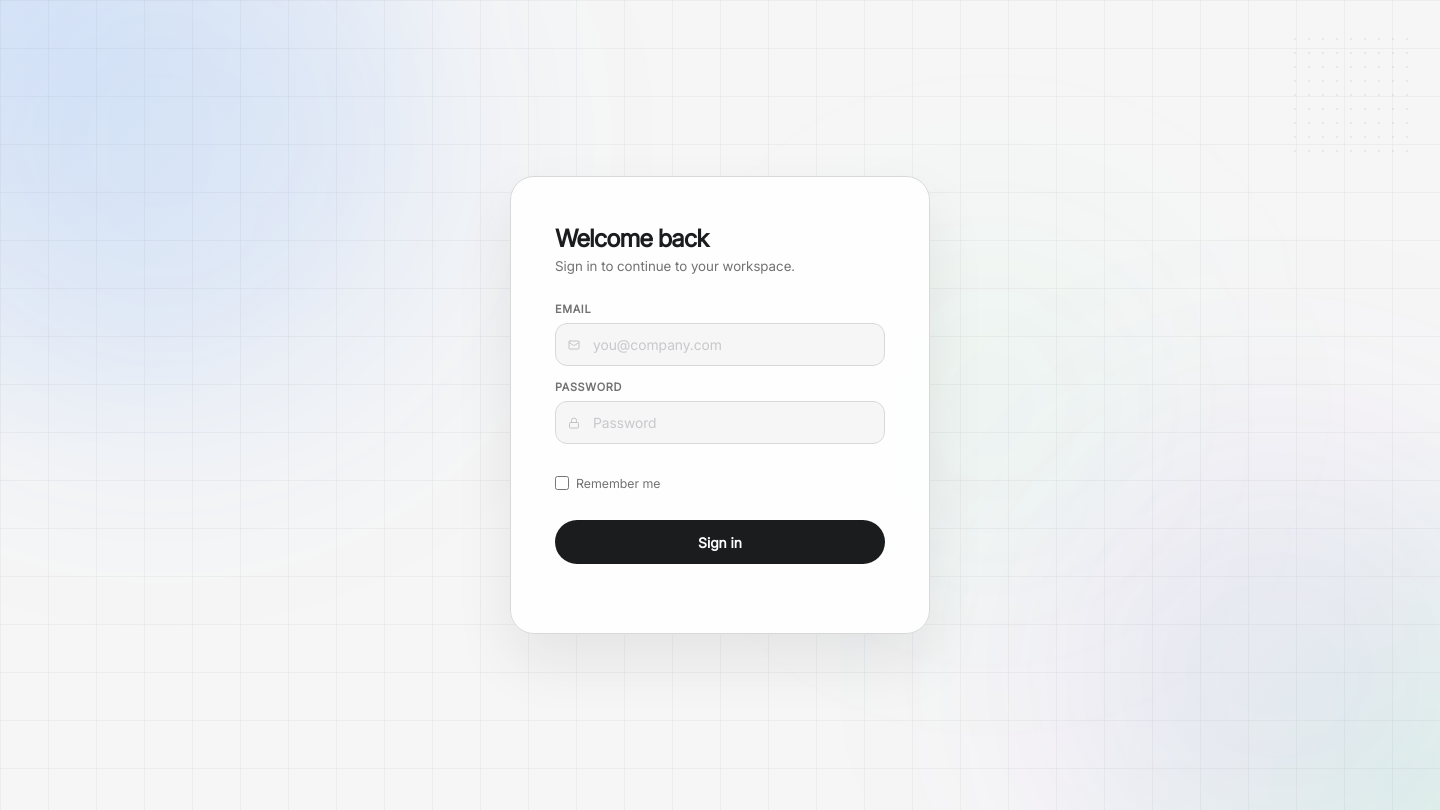
LoginView › shows an error message when login fails
Type "user@test.no" into the field with id "email". click: (720, 345)
box: [555,323,885,366]
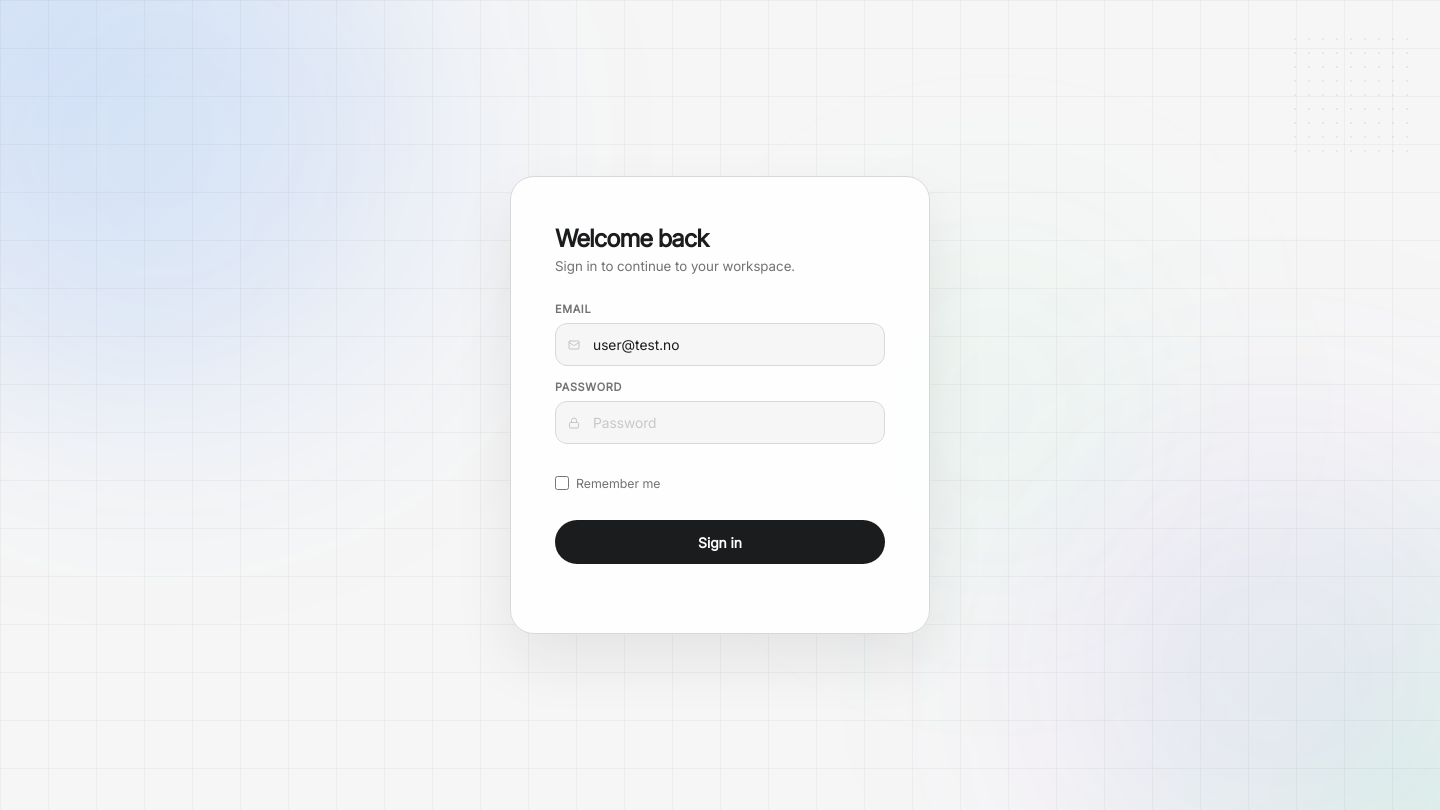
Type "wrong-password" into the password field with placeholder "Password". click: (720, 423)
box: [555,401,885,444]
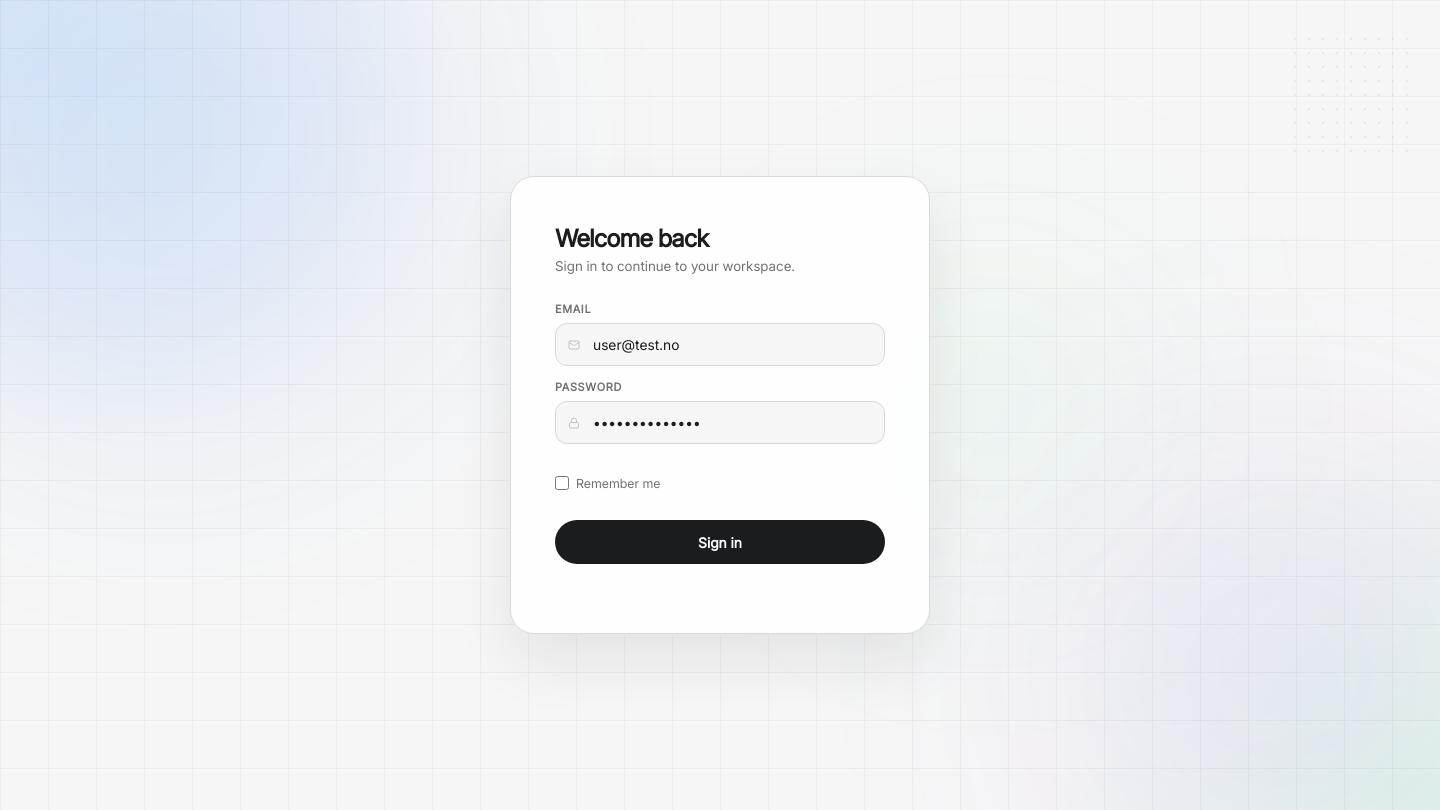
Submit the form, box [555,302,885,564]
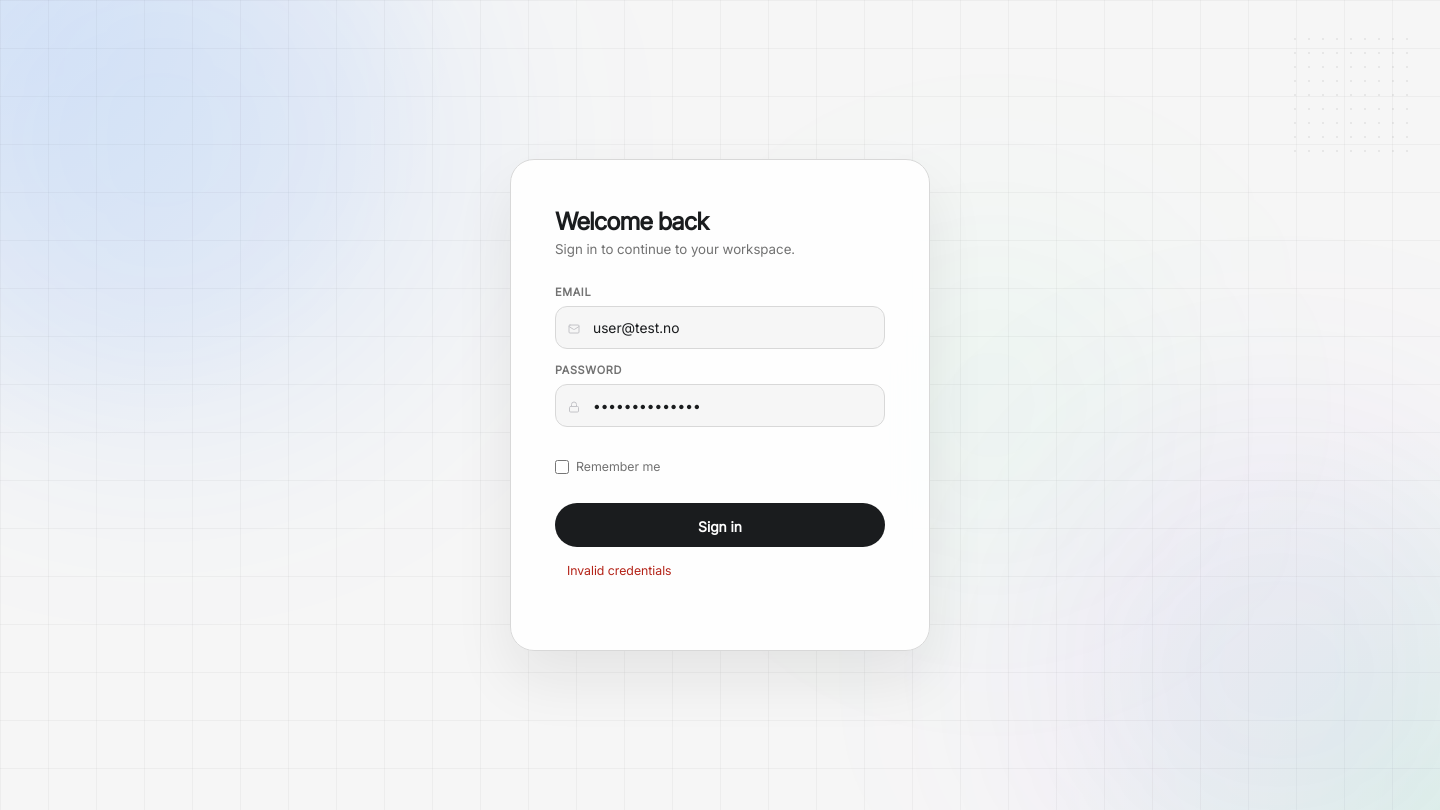
expect the submit button reads "Sign in": met, box [555,504,885,548]
expect the text "Invalid credentials" is shown: met, box [567,563,672,578]
